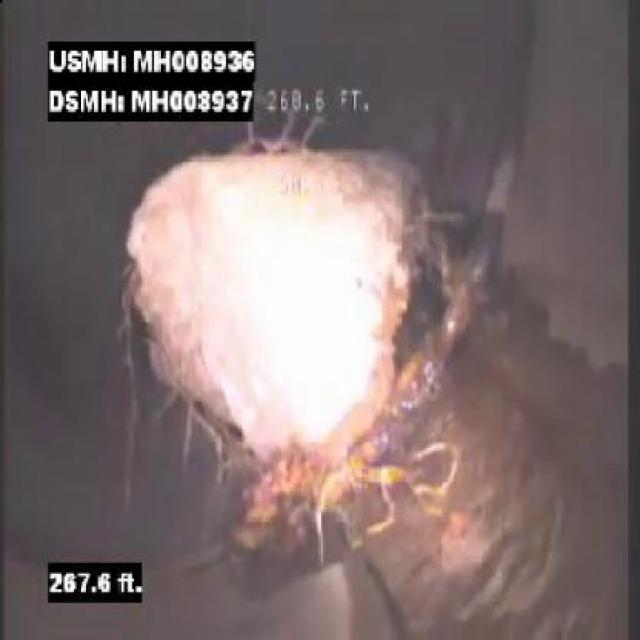Obstacle: (83, 123, 477, 509)
